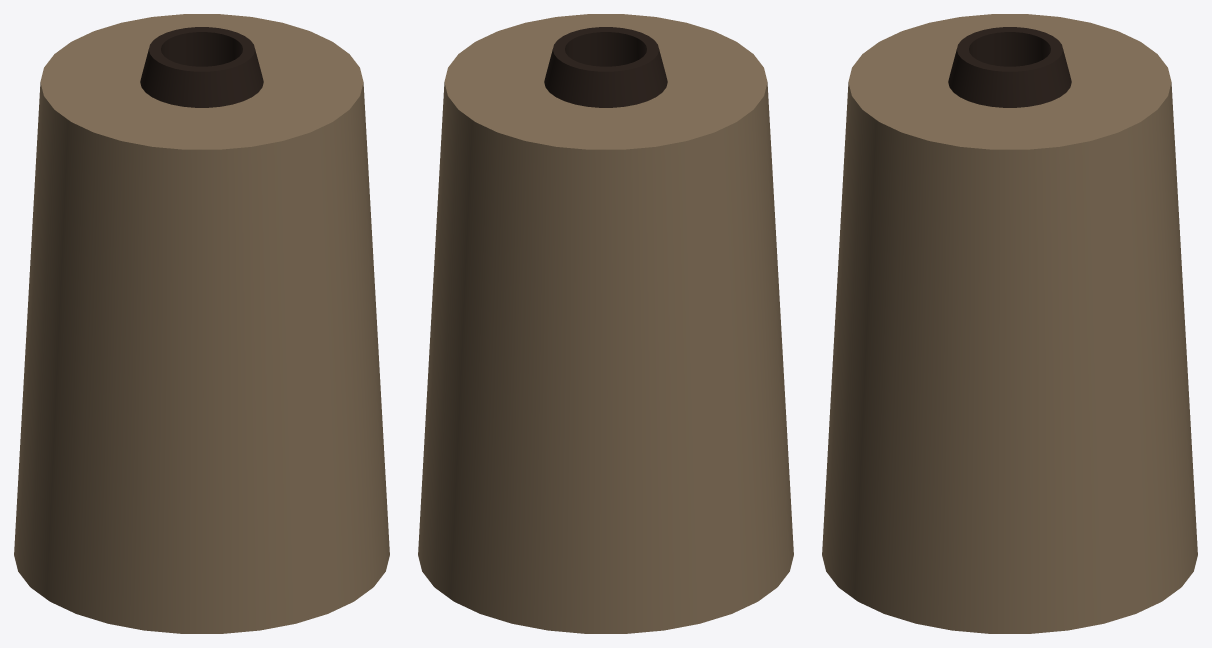
The model's file is F_BeThread_02.fbx.
3 renders of one model, left to right at view 1: azimuth 30°, elevation 25°; view 2: azimuth 150°, elevation 25°; view 3: azimuth 270°, elevation 25°, orthographic.
Visible parts, largest first — view 1: F_LBrownThread_02; view 2: F_LBrownThread_02; view 3: F_LBrownThread_02.
Part boxes in pixels (x1,y1,x2,y2): F_LBrownThread_02: (14, 14, 389, 633); F_LBrownThread_02: (418, 14, 793, 633); F_LBrownThread_02: (822, 14, 1197, 633).
Size of the model in its own units: 15.04 by 22.45 by 15.13.
